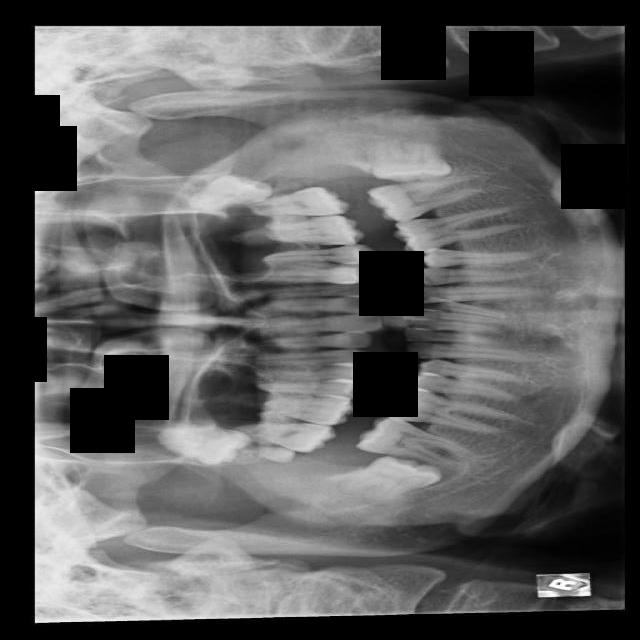73: (622, 4, 626, 8)
BioHorizons Implant: (224, 185, 350, 216)
BioLife Implant: (184, 162, 275, 221)
Biomet 3i Implant: (372, 131, 452, 182)
Blue Sky Bio Implant: (365, 169, 483, 227)
Implant: (355, 409, 479, 473)
Keystone Dental Implant: (335, 434, 445, 522)
